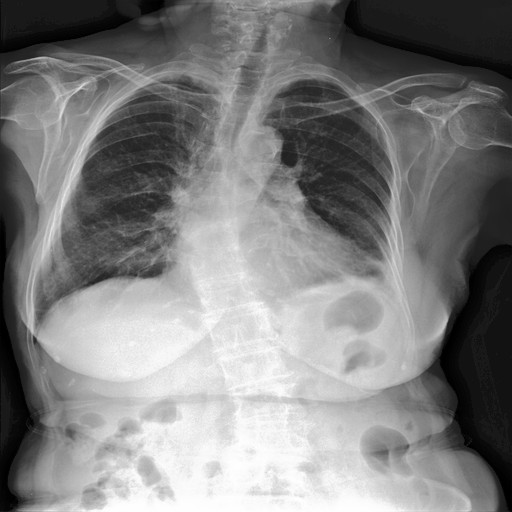Calcification: (373, 258, 399, 296)
Consolidation: (239, 123, 284, 162)
Nodule/Mass: (162, 231, 365, 289)
Other lesion: (178, 142, 261, 334)
Pleural effusion: (372, 259, 407, 300)
Pneumothorax: (372, 259, 407, 300)
